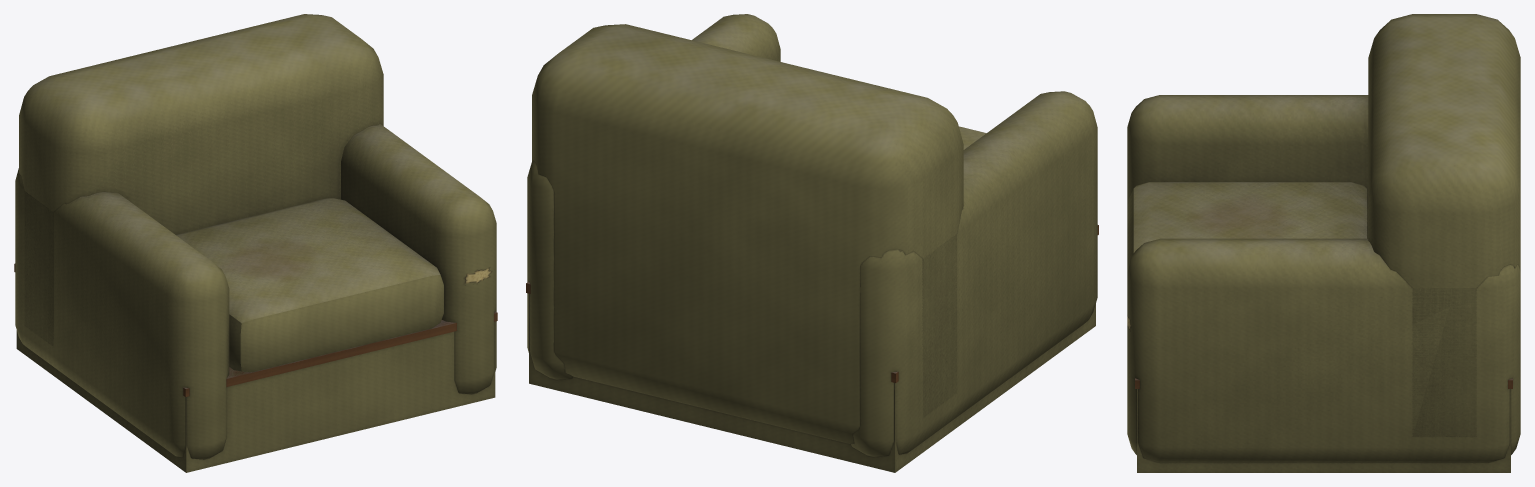
Rendered from H_Armchair.fbx.
3 renders of one model, left to right at view 1: azimuth 30°, elevation 25°; view 2: azimuth 150°, elevation 25°; view 3: azimuth 270°, elevation 25°, orthographic. The views are drawn at different scales.
Visible parts, largest first — view 1: H_Armchair; view 2: H_Armchair; view 3: H_Armchair.
Boxes of the visible parts, left/top/right/bottom form: H_Armchair: left=14, top=14, right=497, bottom=472; H_Armchair: left=526, top=14, right=1098, bottom=472; H_Armchair: left=1127, top=14, right=1520, bottom=472.
Bounding box in the file's own units: 420 × 340 × 400.
1 material, 1 textured.
